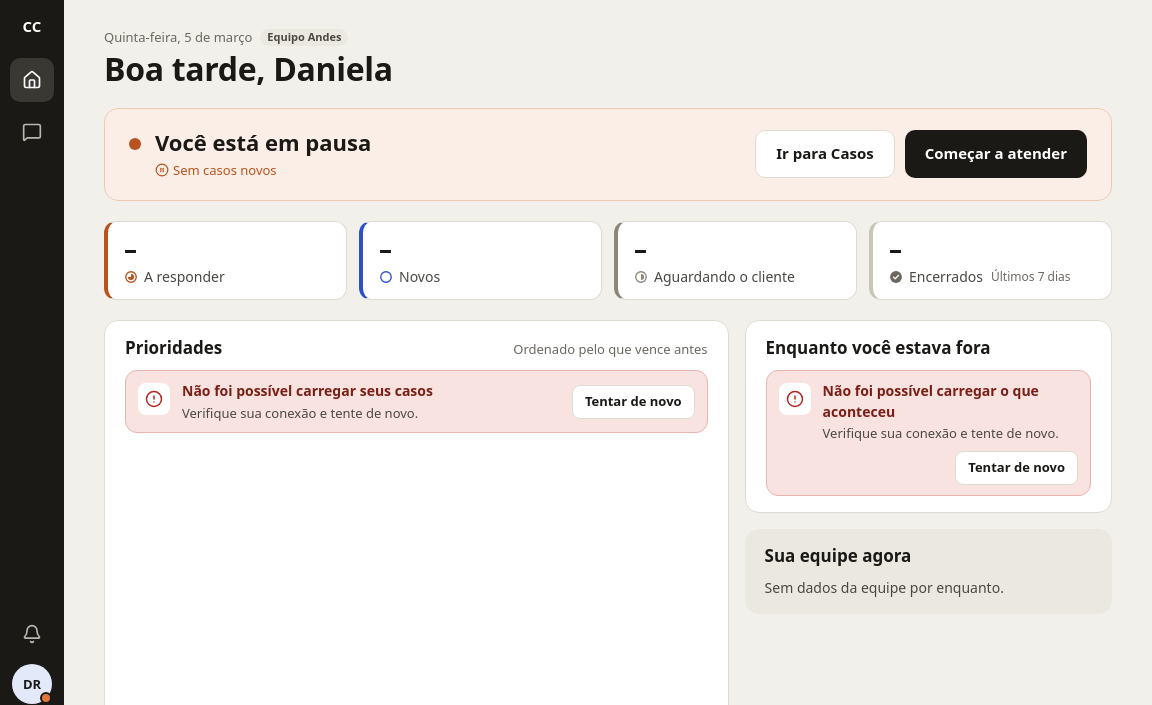
/analyst/home (Início) in Portuguese › shows the errors in pt-BR with a retry
The width and height of the screenshot is (1152, 705).
Expected: the 2nd message shows "Não foi possível carregar o que aconteceu", [823, 381, 1039, 421]
Expected: the 2nd message shows "Verifique sua conexão e tente de novo.", [823, 424, 1059, 442]
Click the button "Tentar de novo" below "Enquanto você estava fora". click: (1017, 468)
box: [955, 451, 1078, 485]
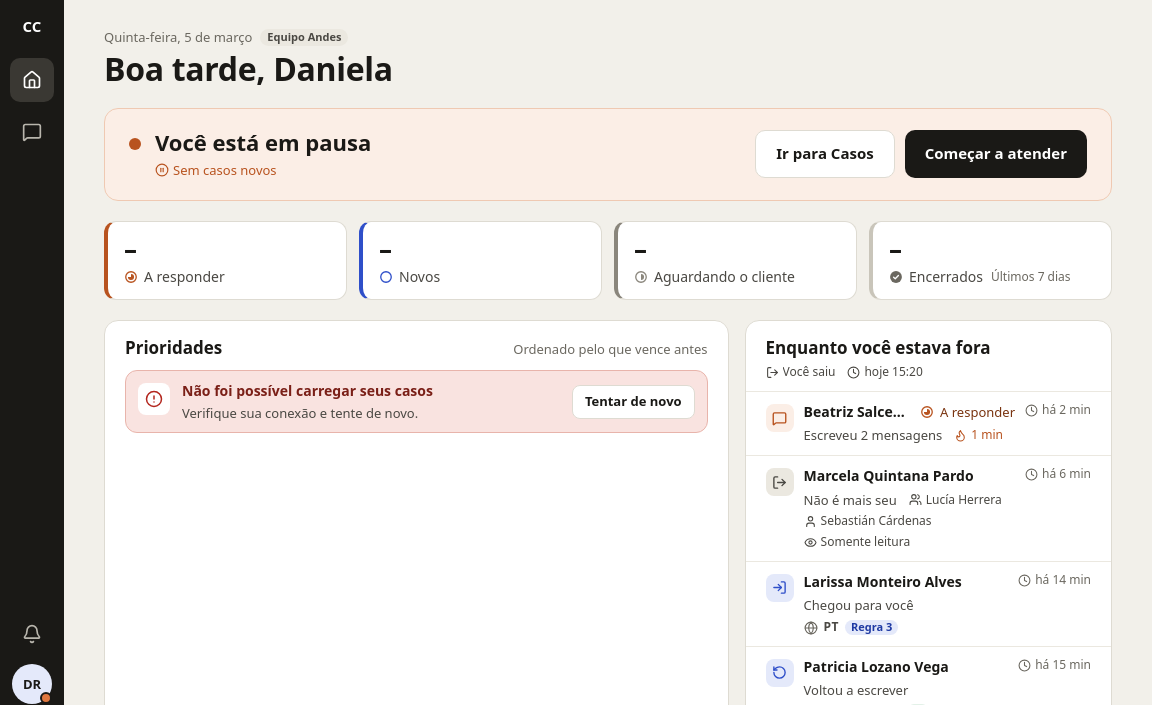
Expected: the text "Voltou a escrever" is shown, [804, 681, 908, 700]
